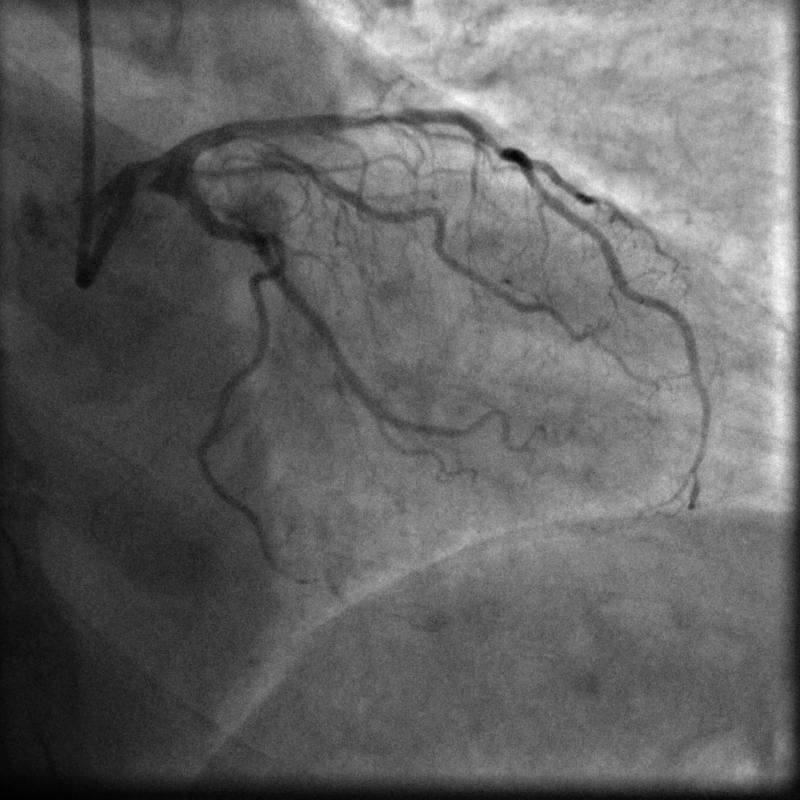Stenosis: (340, 107, 406, 129)
